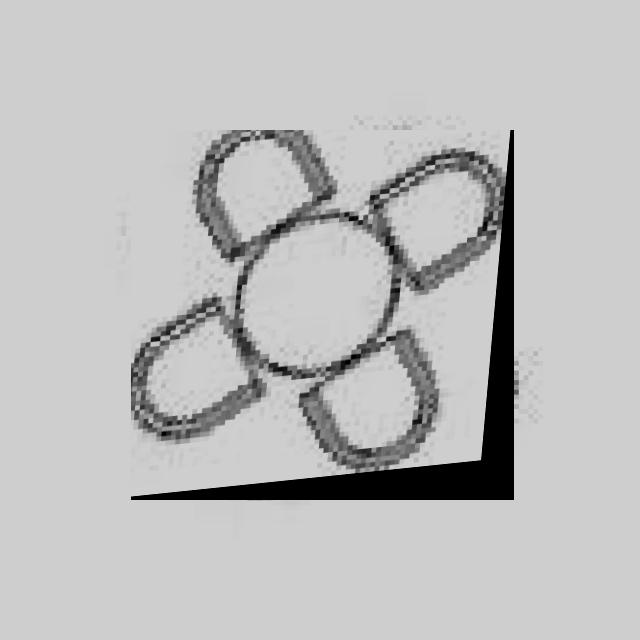table: (131, 130, 514, 500)
